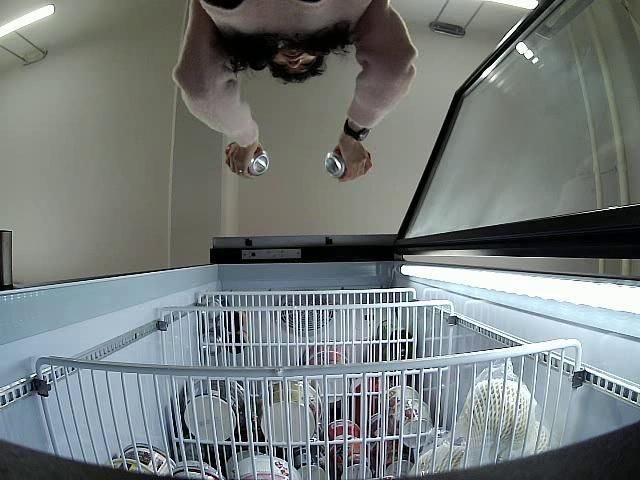11_cocaColaZero: (226, 142, 269, 176), (324, 149, 370, 178)
